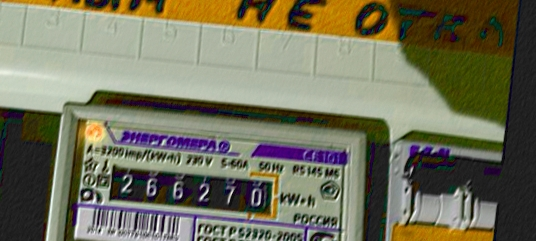0: (250, 186, 265, 207)
2: (119, 173, 136, 194), (197, 181, 213, 203)
6: (145, 176, 160, 198), (172, 180, 187, 201)
7: (223, 184, 237, 204)
screen: (100, 153, 288, 226)
